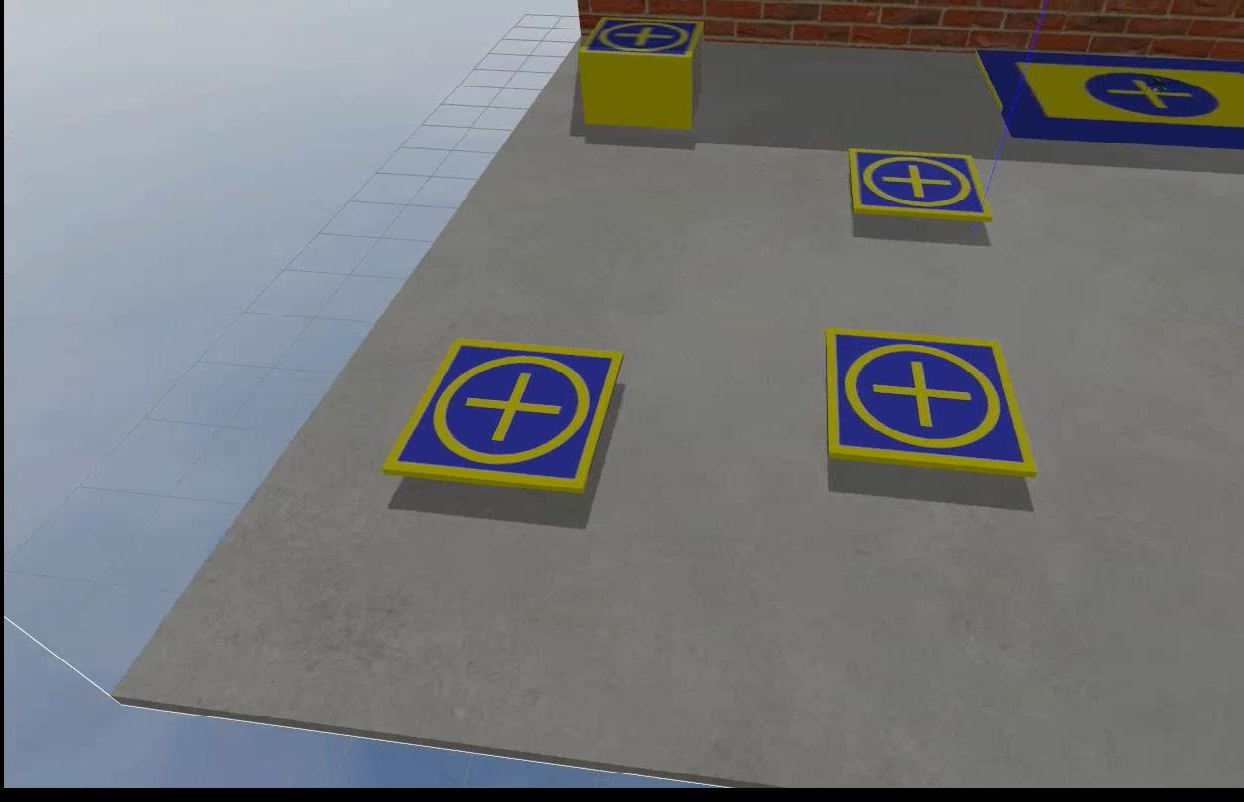large_base: (978, 54, 1242, 146)
small_base: (379, 340, 622, 499), (823, 333, 1037, 482), (848, 146, 988, 220), (576, 12, 704, 68)
